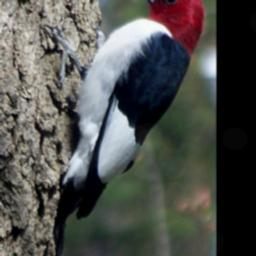Woodpecker: (36, 0, 206, 227)
